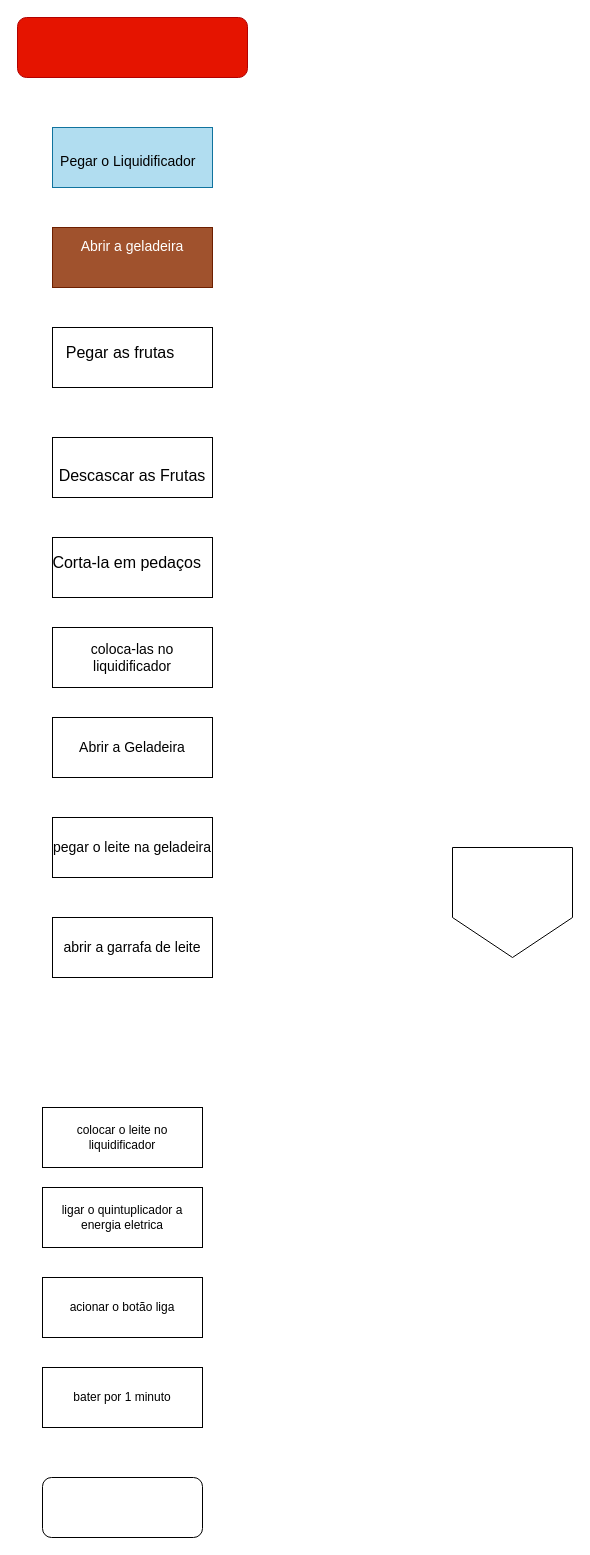
This 590x1555 diagram has some shape labels left out. Each missing label, with the centre of its shape:
acionar o botão desliga: point (122, 1507)
Fazer uma vitamina de frutas: point (132, 47)
yy7t7: point (512, 902)
